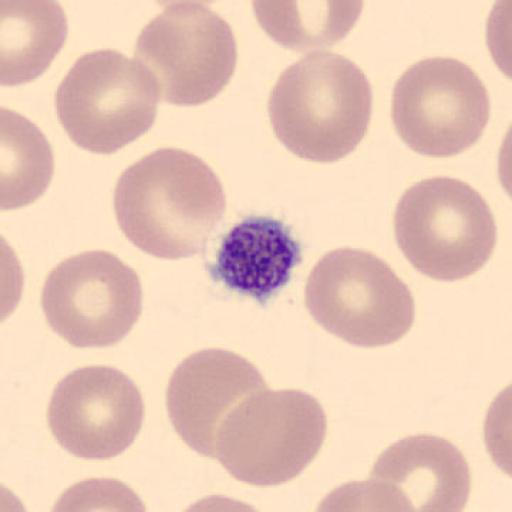Platelet: (204, 211, 308, 305)
RBC: (110, 144, 228, 262), (266, 47, 374, 166), (164, 345, 272, 460), (303, 244, 417, 350), (53, 46, 162, 156), (392, 173, 498, 285), (132, 0, 240, 109), (214, 386, 329, 488), (389, 53, 493, 160), (39, 248, 144, 350), (46, 362, 146, 462), (366, 431, 473, 511), (249, 0, 365, 54), (1, 0, 70, 89), (2, 106, 56, 212), (310, 476, 420, 512), (48, 475, 150, 512), (482, 381, 512, 484), (483, 0, 512, 83), (1, 234, 25, 330), (171, 491, 274, 512), (496, 124, 512, 202), (0, 476, 30, 512)
